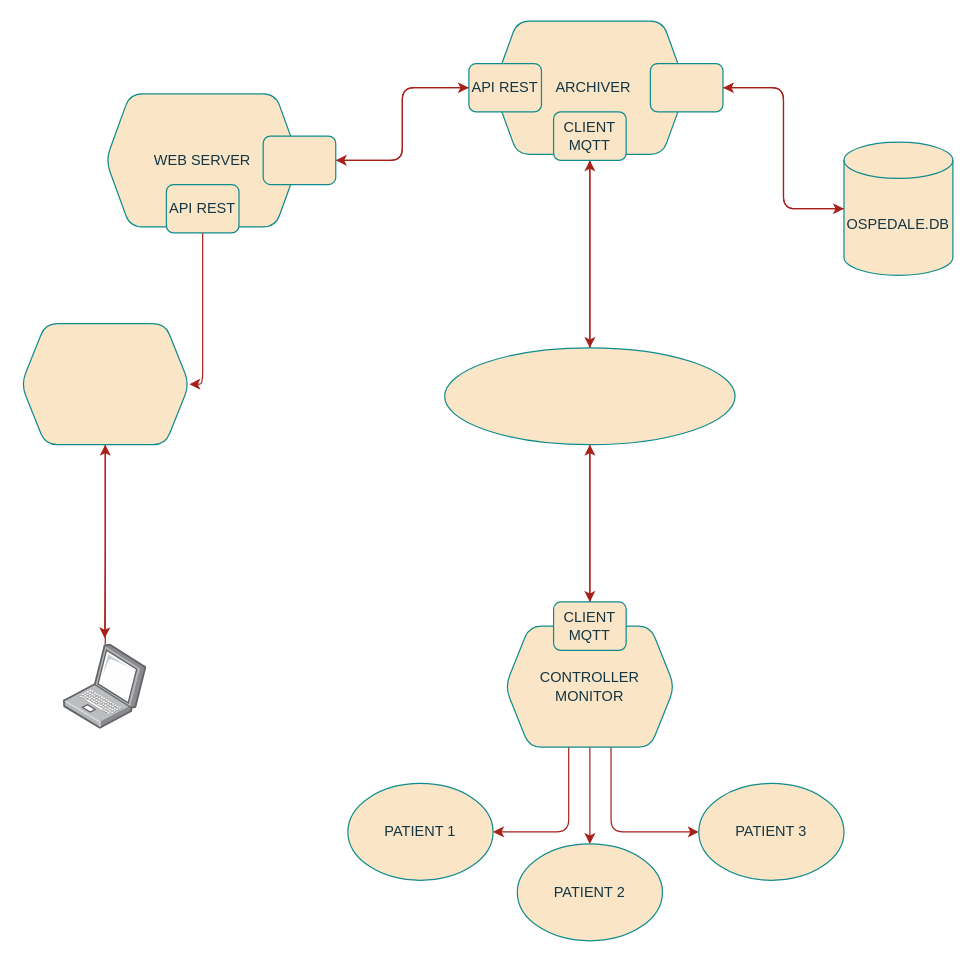
Some shapes in this 974 by 962 pixel diagram are drawn without their labels. The shapes that lost their labels are listed below. From the top down, each one's centre as x and y in pixels, then its label:
At (686,87): "SQL INT".
At (299,160): "REST CLIENT".
At (104,383): "REACT.JS".
At (589,396): "MESSAGE BROKER".
